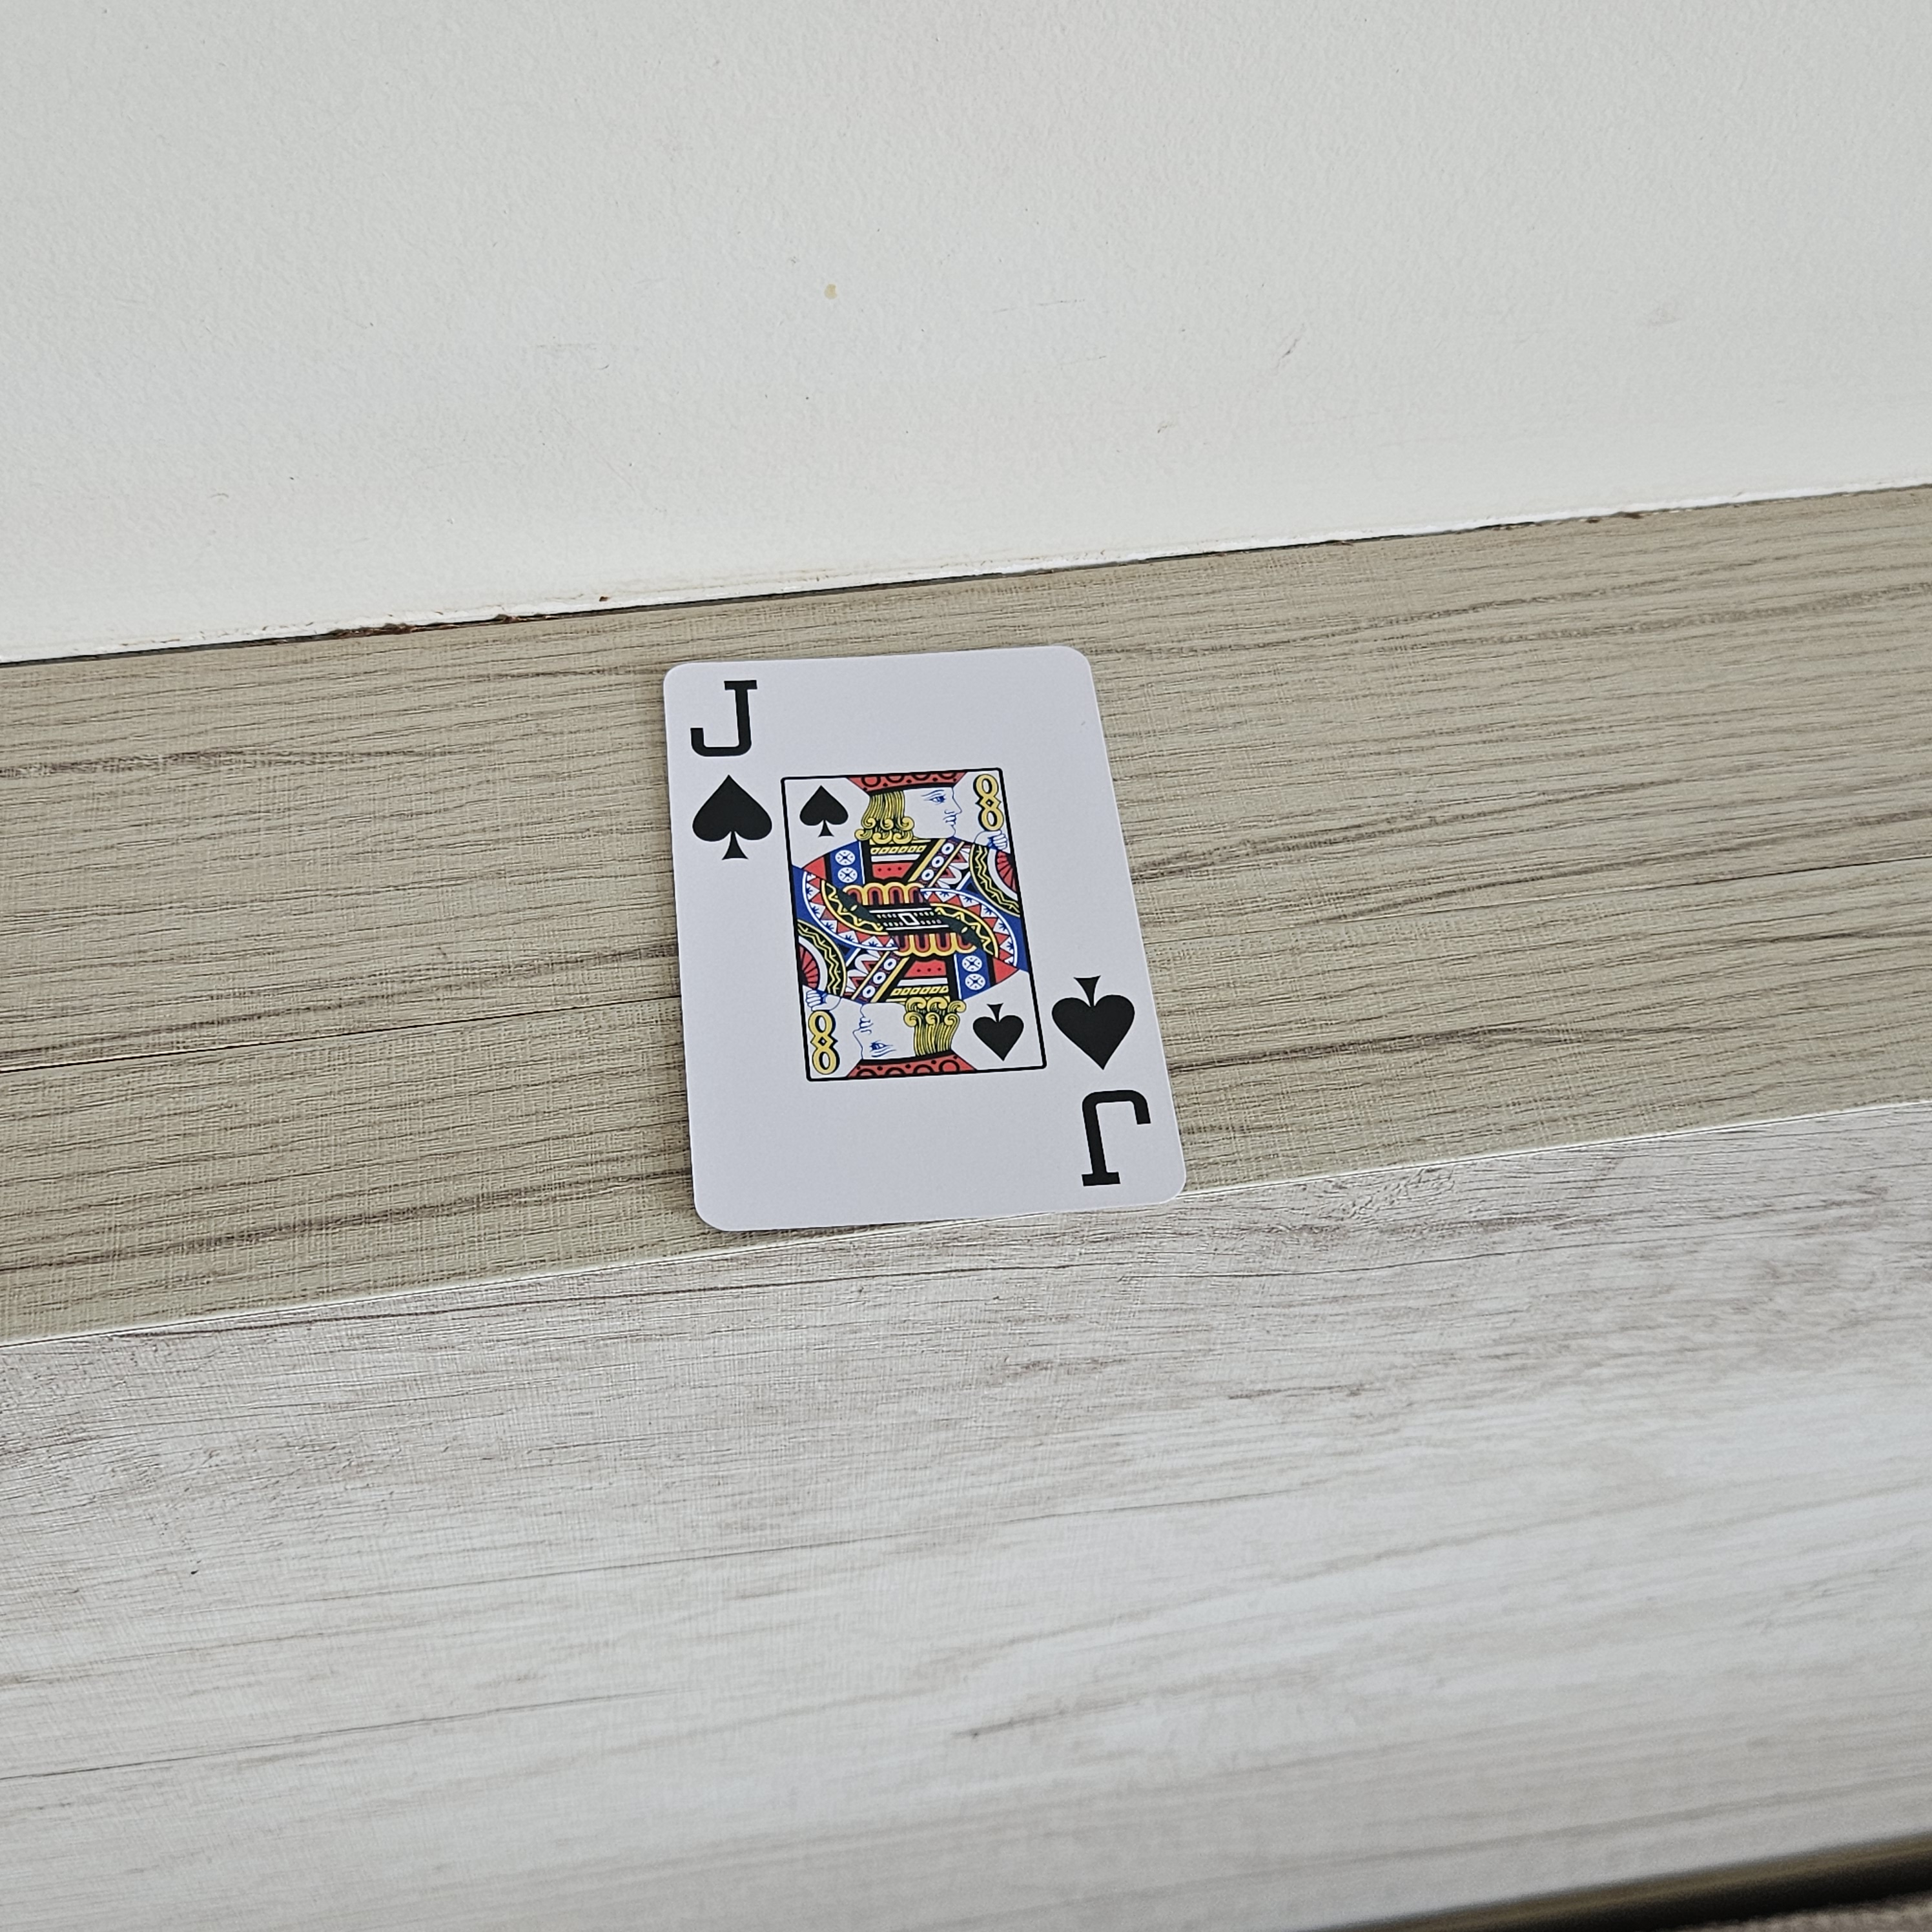JE: (1031, 955, 1166, 1205), (665, 665, 784, 872)
